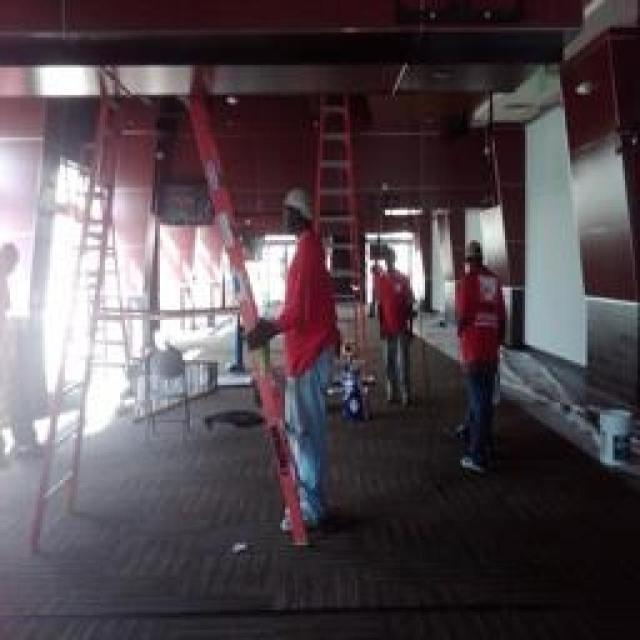Helmet: (268, 238, 354, 388), (450, 266, 515, 386), (364, 262, 432, 350), (262, 170, 317, 250), (450, 226, 504, 269), (371, 242, 407, 276)
